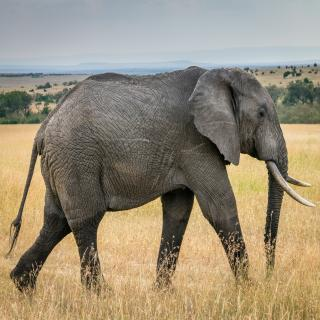Elephant: (11, 62, 318, 294)
